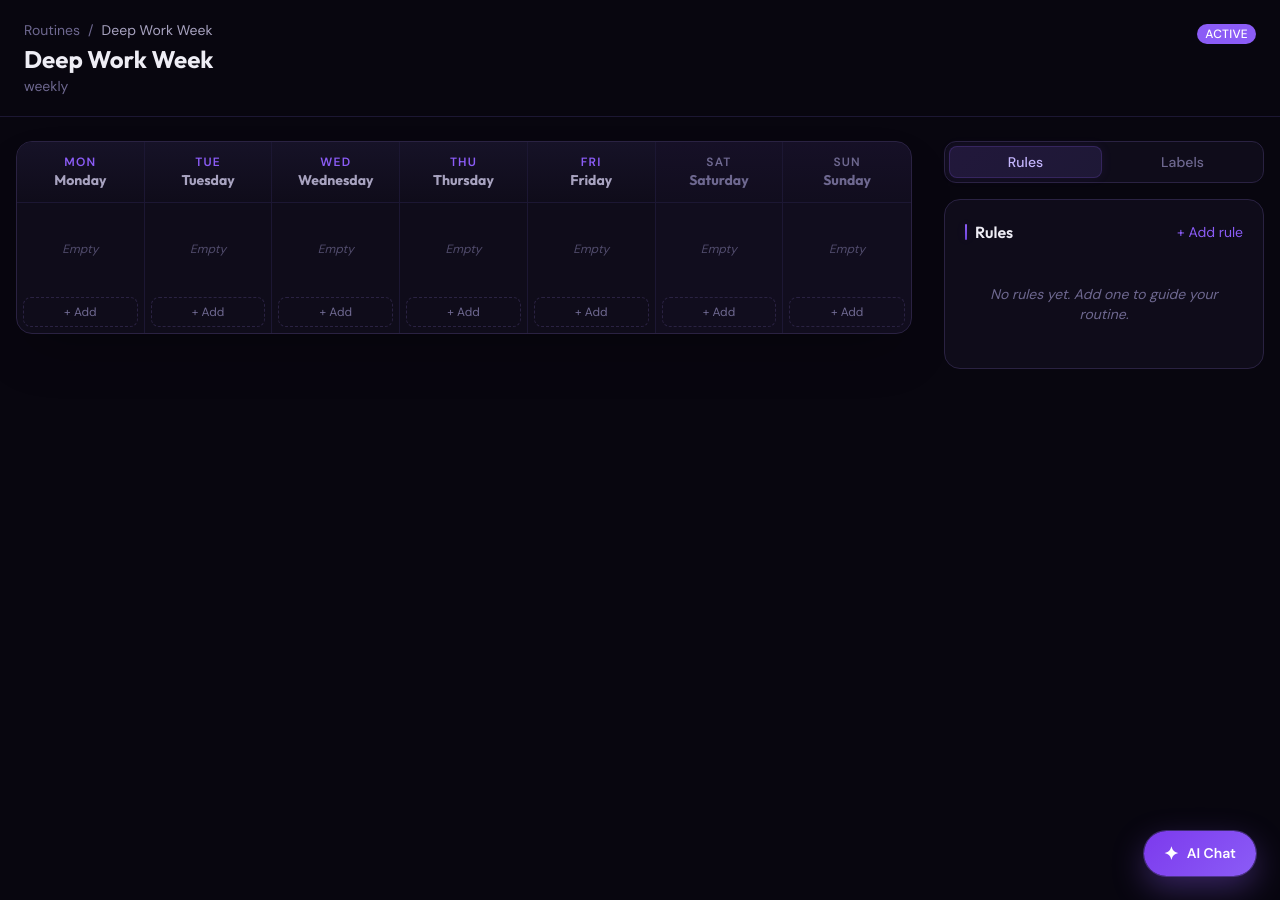
Test: RoutineDetail page › renders labels in the Labels tab
The width and height of the screenshot is (1280, 900).
Click the button "Labels": (1182, 162) left=1106, top=146, right=1259, bottom=178
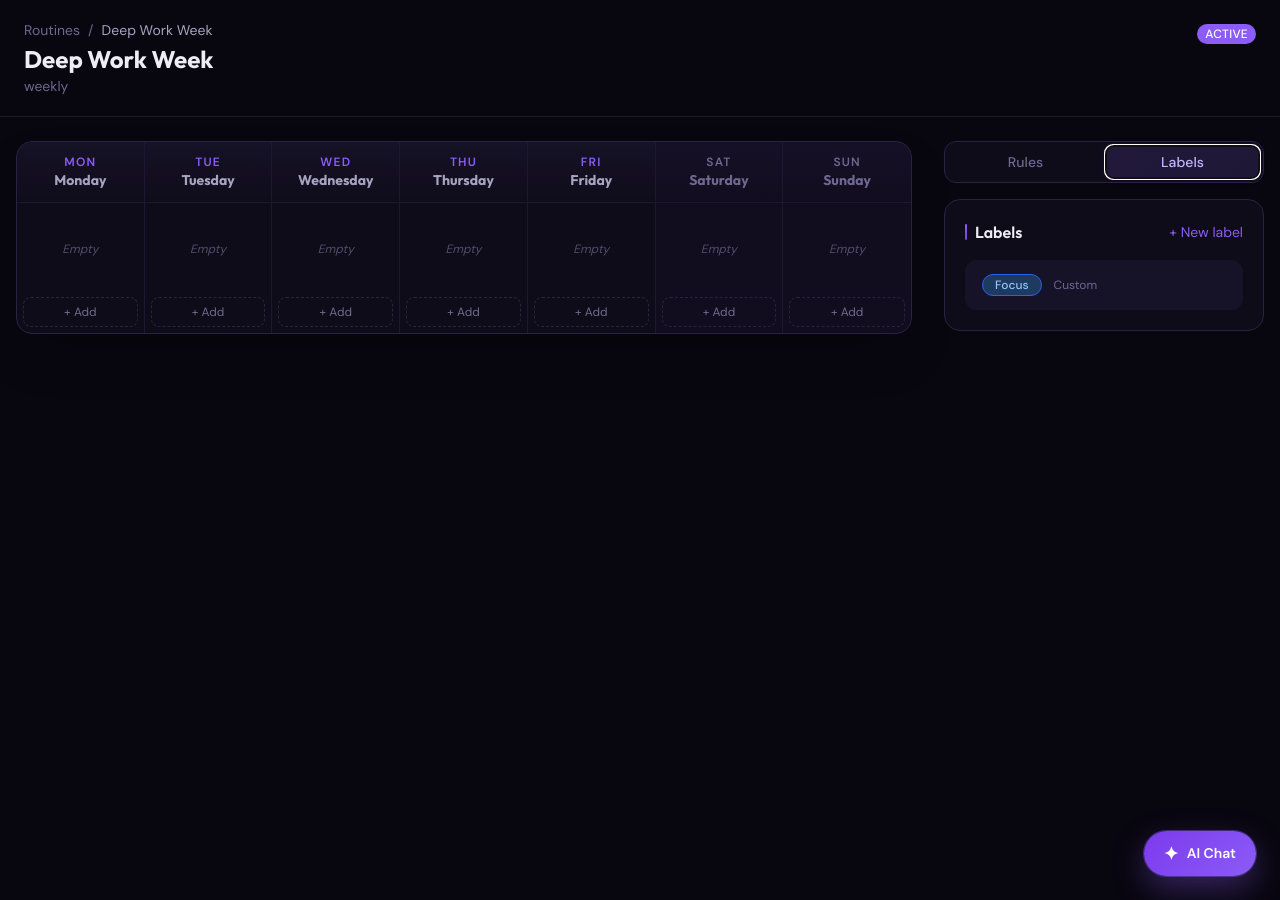
Expected: the element with test id "label-l1" is shown, left=965, top=260, right=1243, bottom=310
